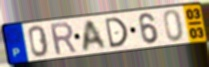0: (162, 8, 186, 44), (27, 24, 49, 59)
6: (138, 12, 161, 45)
A: (81, 19, 108, 53)
D: (103, 16, 129, 50)
R: (48, 21, 79, 57)
